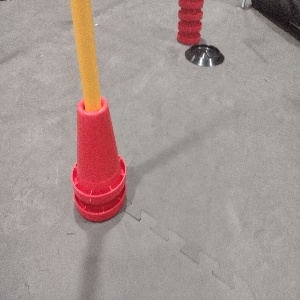Red_2: (66, 95, 126, 222)
Red_4: (175, 0, 202, 44)
